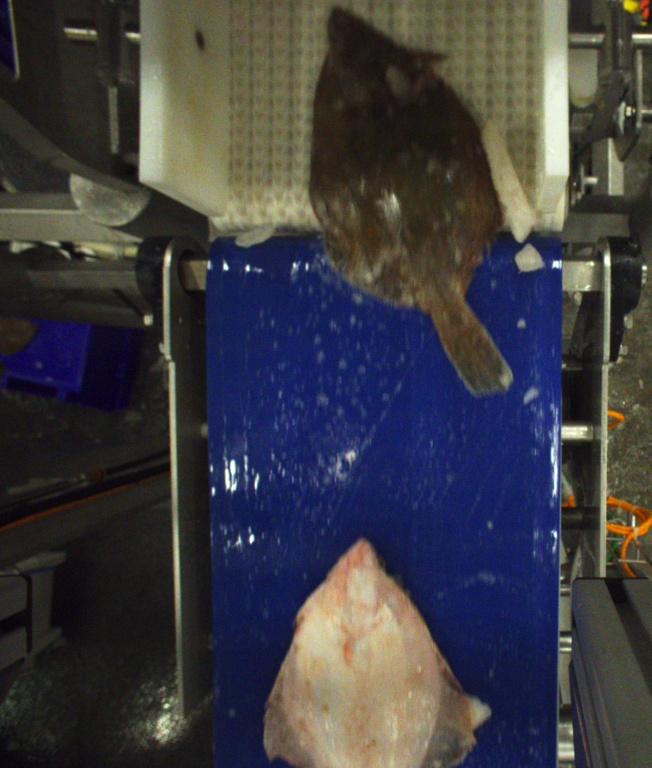PLE: (310, 6, 517, 397)
